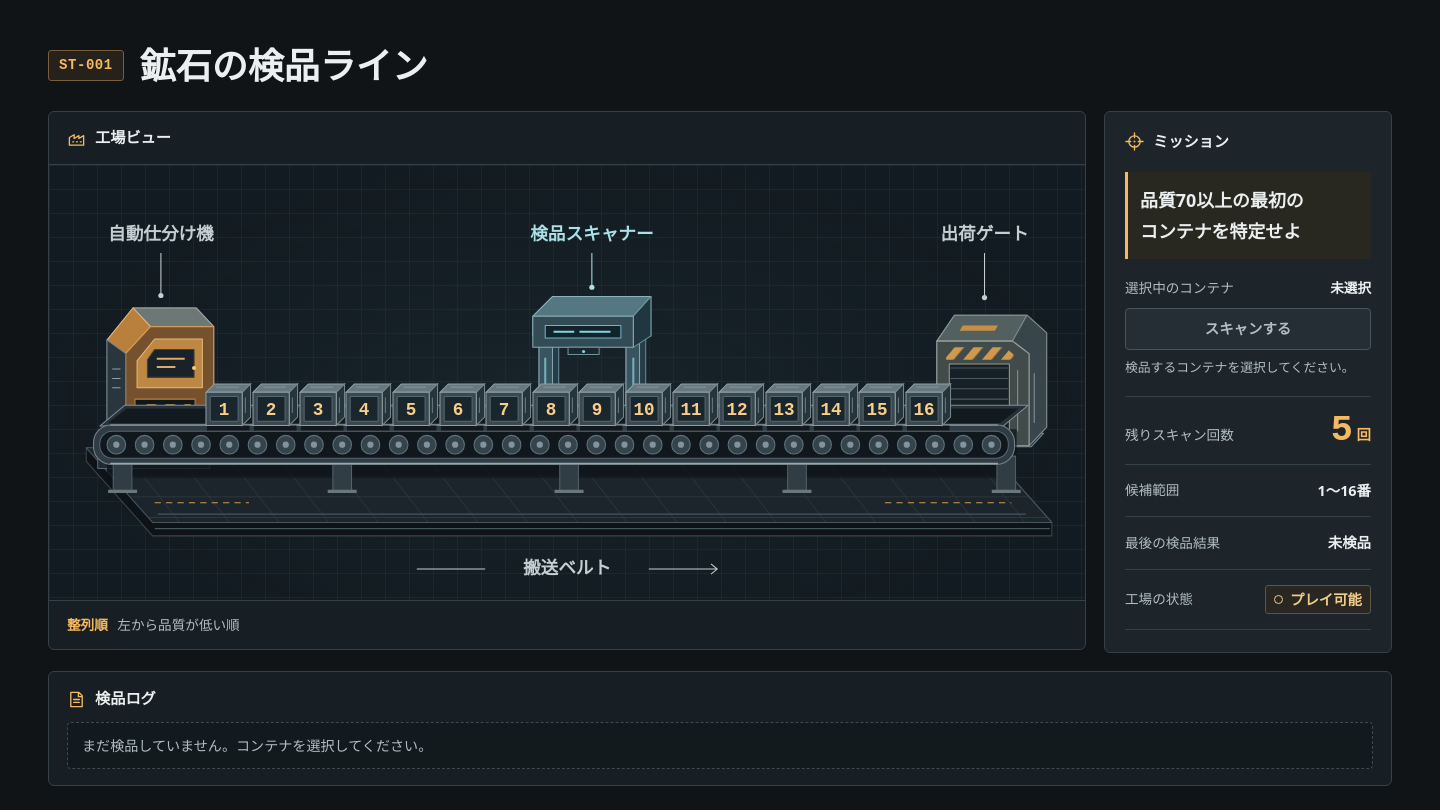
Test: inspection and recovery › deduplicates scans, keeps an in-flight scan locked after skipping, and shows only returned quality
Later steps or results of the test are not shown.
Click the radio button labelled "8".
click(555, 404)  # box [533, 384, 577, 425]
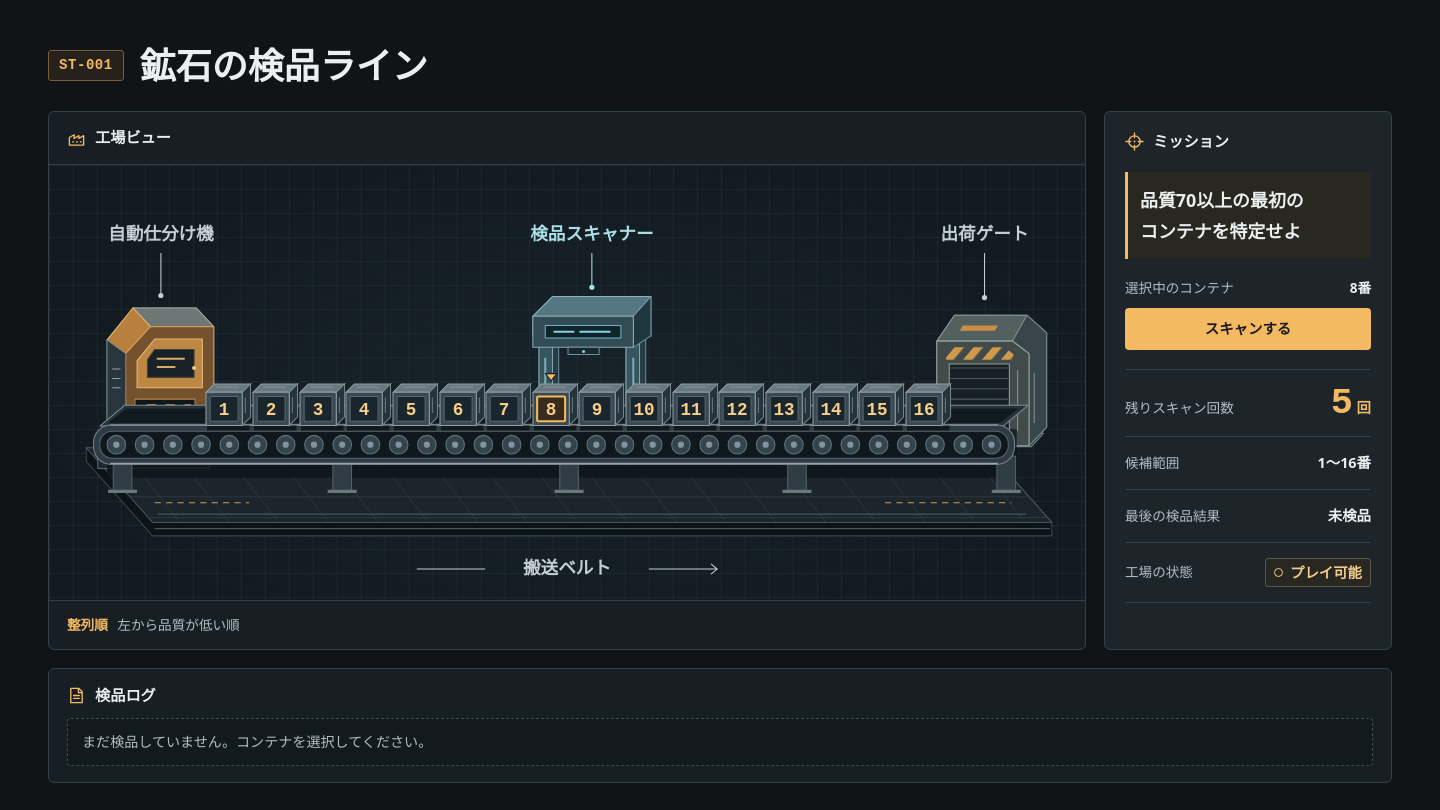
Click the button "スキャンする".
click(1248, 329)  # box [1125, 308, 1371, 350]
Click the button "スキャンする".
click(1248, 329)  # box [1125, 308, 1371, 350]
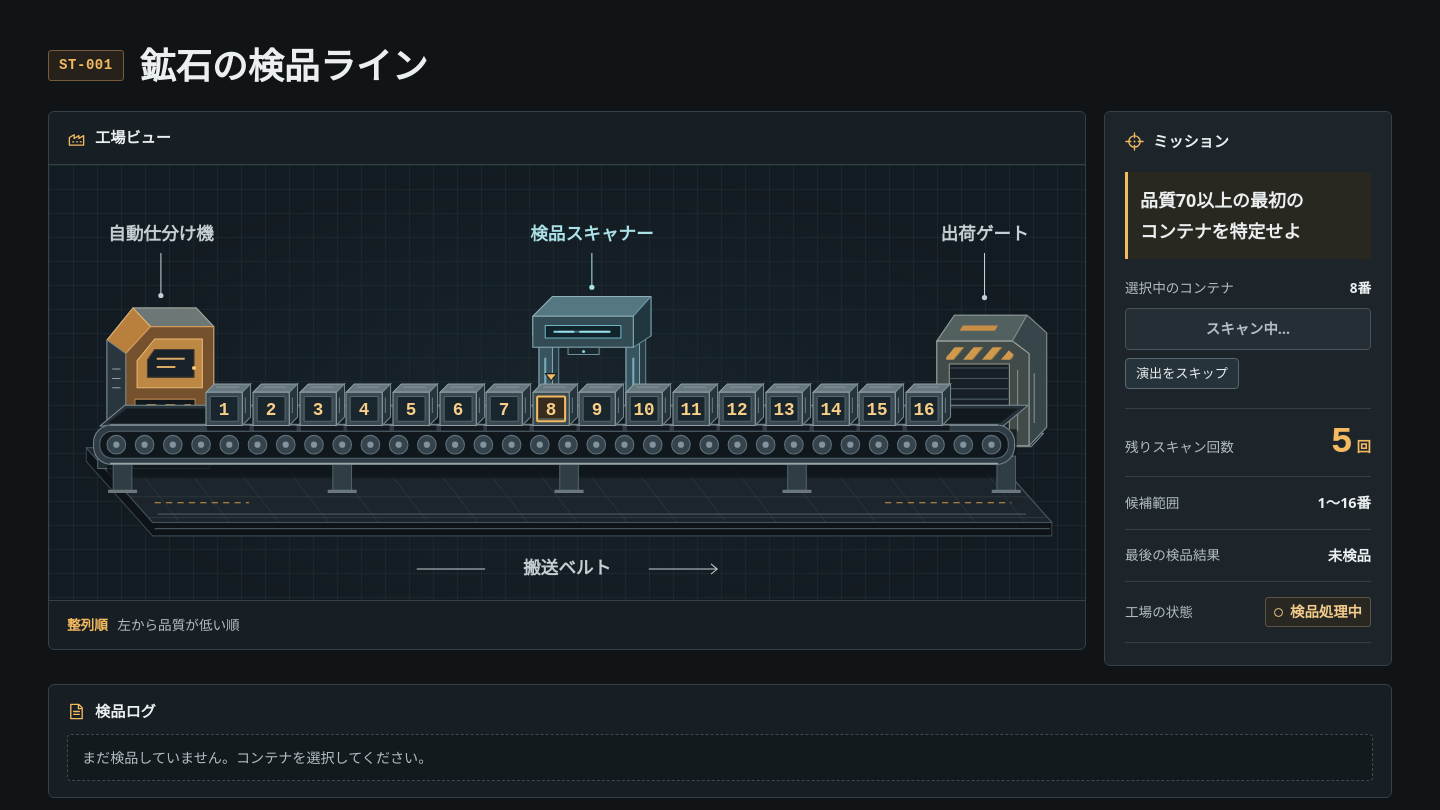
Result: the message with class "factory-status" reads "検品処理中" at [1290, 602, 1362, 621]
Click the button "演出をスキップ".
click(1182, 373)  # box [1125, 358, 1239, 389]
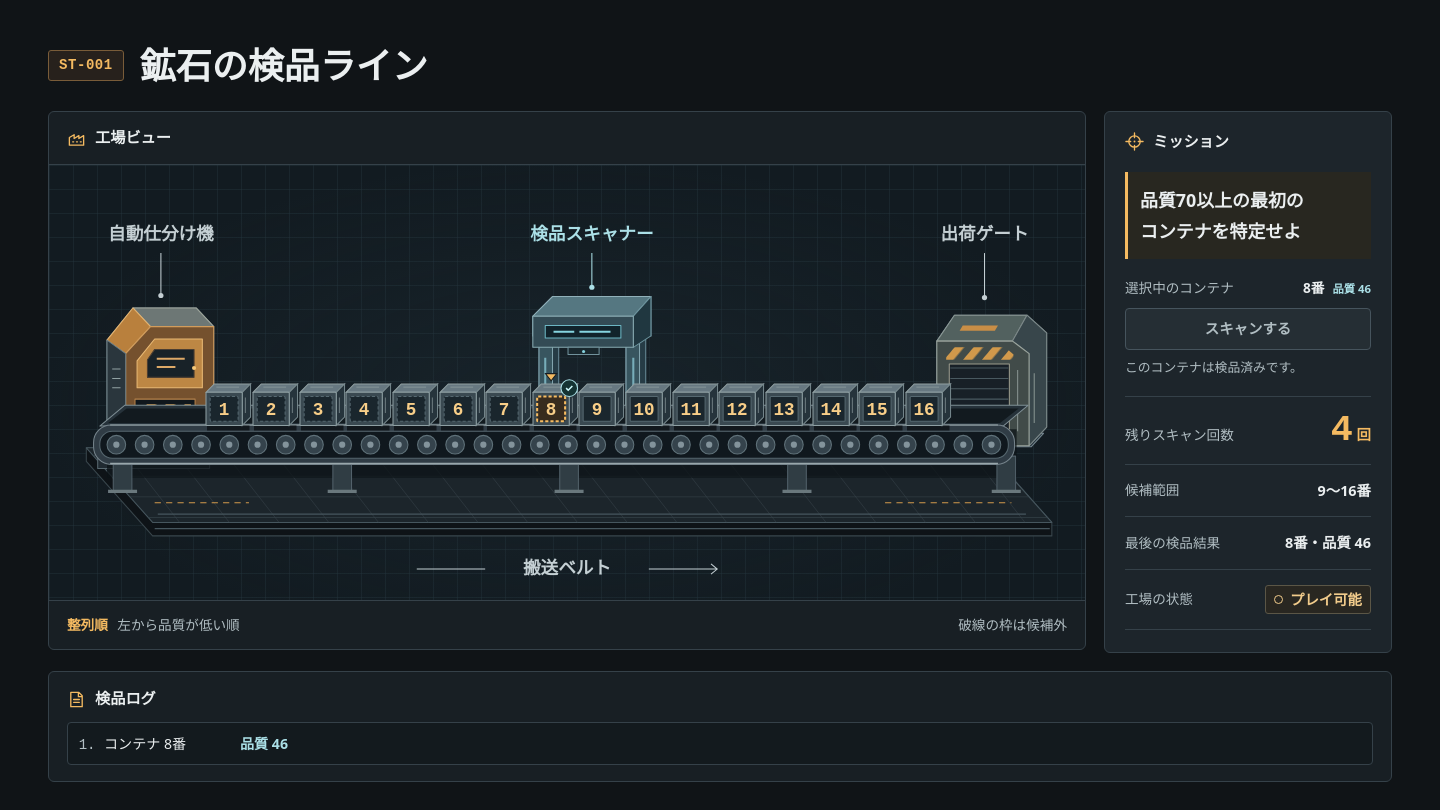
Result: the list item "コンテナ 8番 品質 46" is shown at [104, 734, 288, 753]
Result: the text with class "candidate-reading" reads "9〜16番" at [1318, 481, 1371, 500]
Result: the element with class "mission-readings" shows "8番・品質 46" at [1285, 533, 1371, 552]
